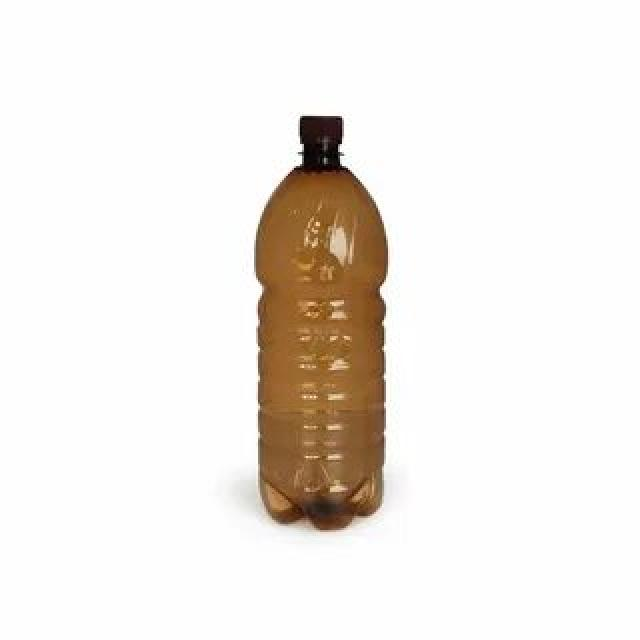brown: (254, 146, 388, 532)
